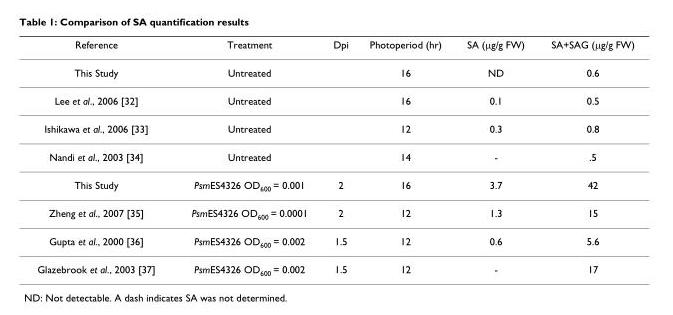table: (36, 37, 633, 276)
table column: (172, 37, 319, 276), (36, 37, 172, 276), (537, 37, 633, 276), (358, 37, 453, 276), (453, 37, 537, 276), (319, 37, 358, 276)
table column header: (36, 37, 633, 58)
table row: (36, 170, 633, 199), (36, 58, 633, 86), (36, 86, 633, 114), (36, 114, 633, 142), (36, 142, 633, 170), (36, 199, 633, 227), (36, 227, 633, 255), (36, 37, 633, 58), (36, 255, 633, 276)
